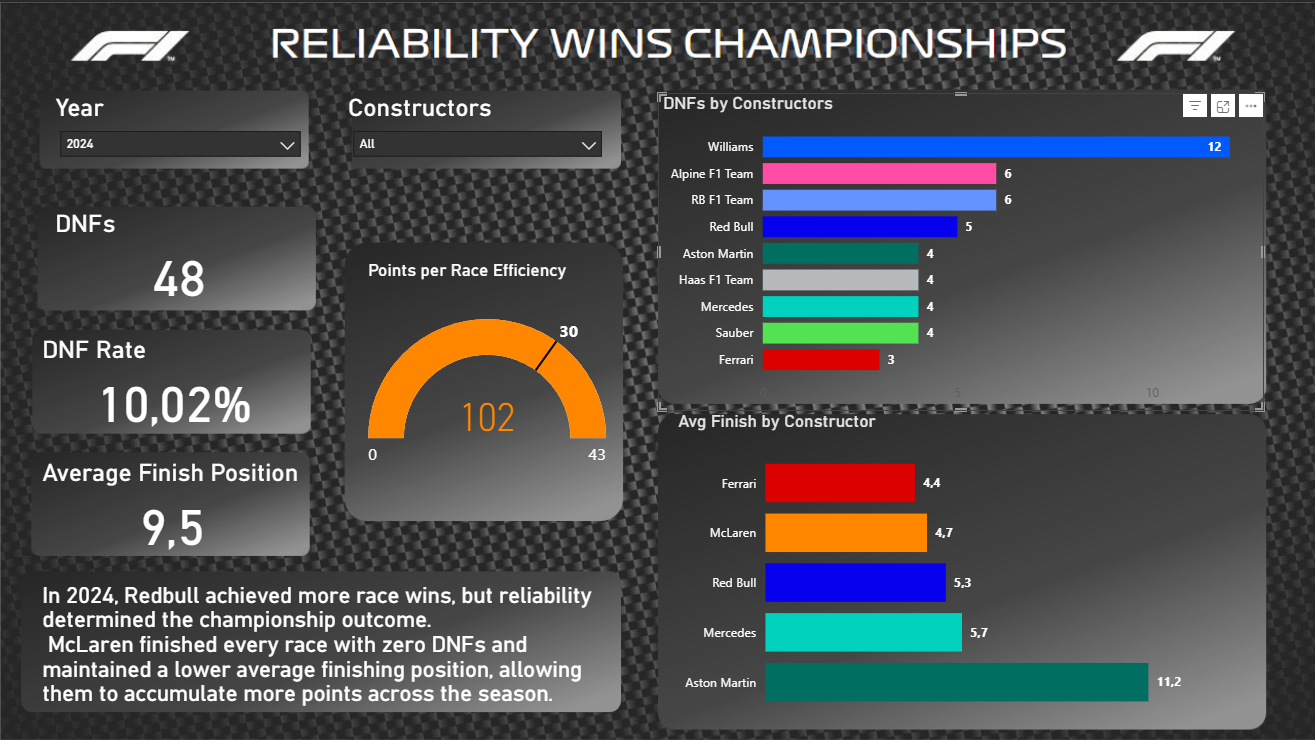

The page's visual inventory and layout, read from the dashboard file:
{"tool":"powerbi","page":{"name":"RELIABILITY & CONSISTENCY","canvas":[1280,720],"ordinal":1},"visuals":[{"type":"clusteredBarChart","title":"DNFs by Constructors","fields":{"Category":["constructors.name"],"Y":["results.DNFs"]},"box":[640.6,88.1,589.4,309.6],"z":0},{"type":"clusteredBarChart","title":"Avg Finish by Constructor","fields":{"Category":["constructors.name"],"Y":["results.Avg Finish"]},"box":[654.9,397.7,575.1,308.4],"z":1000},{"type":"textbox","box":[35.7,559.6,570.3,134.5],"z":2000},{"type":"card","title":"DNFs","fields":{"Values":["results.DNFs"]},"box":[48.8,201.2,251.2,96.4],"z":3000},{"type":"card","title":"DNF Rate","fields":{"Values":["results.DNF Rate"]},"box":[35.7,323.9,266.7,96.4],"z":4000},{"type":"card","title":"Average Finish Position","fields":{"Values":["results.Avg Finish"]},"box":[35.7,444.1,264.3,96.4],"z":5000},{"type":"gauge","title":"Points per Race Efficiency","fields":{"MinValue":["results.Min Points per Race"],"MaxValue":["results.Max Points per Race"],"Y":["results.Points per Race"],"TargetValue":["results.Elite Constructor Pace"]},"box":[353.6,251.2,241.7,242.9],"z":6000},{"type":"slicer","title":"Year","fields":{"Values":["races.year"]},"box":[48.8,88.1,253.6,75],"z":6002},{"type":"slicer","title":"Constructors","fields":{"Values":["constructors.name"]},"box":[333.4,88.1,262,75],"z":6003}]}

Visuals, with their boxes in screenshot pixels (x1, y1, x2, y2), scaled from the page's 1280x720 canvas onto the 1315x740 screenshot:
"DNFs by Constructors" clusteredBarChart: crop(658, 91, 1264, 409)
"Avg Finish by Constructor" clusteredBarChart: crop(673, 409, 1264, 726)
textbox: crop(37, 575, 623, 713)
"DNFs" card: crop(50, 207, 308, 306)
"DNF Rate" card: crop(37, 333, 311, 432)
"Average Finish Position" card: crop(37, 456, 308, 556)
"Points per Race Efficiency" gauge: crop(363, 258, 612, 508)
"Year" slicer: crop(50, 91, 311, 168)
"Constructors" slicer: crop(343, 91, 612, 168)
